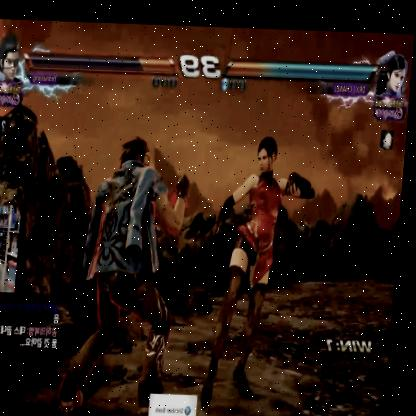streamer: (0, 210, 14, 291)
